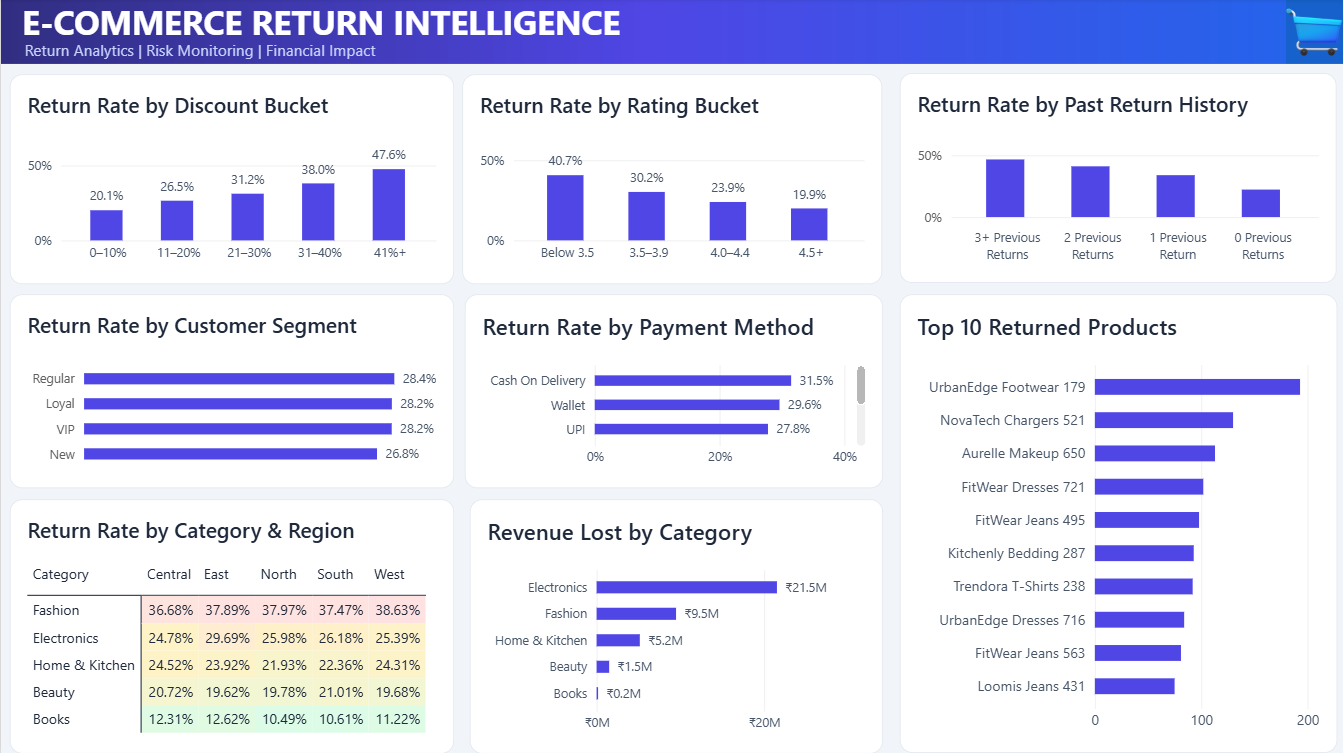

The page's visual inventory and layout, read from the dashboard file:
{"tool":"powerbi","page":{"name":"Detailed Analysis","canvas":[1280,720],"ordinal":1},"visuals":[{"type":"image","box":[0,1.4,1224.3,61.4],"z":0},{"type":"textbox","box":[0,1.4,1150,74.3],"z":1},{"type":"textbox","box":[22.5,38.8,1577.5,36.2],"z":2},{"type":"image","box":[1224.3,1.4,56,61.4],"z":3},{"type":"clusteredBarChart","title":"Top 10 Returned Products","fields":{"Category":["Products.Product_Name"],"Y":["Customers.Returned Orders"]},"box":[856.4,282.3,416.5,437.1],"z":6},{"type":"clusteredBarChart","title":"Revenue Lost by Category","fields":{"Category":["Products.Category"],"Y":["Returns.Total Refund Amount"]},"box":[446.7,476.8,393.2,242.5],"z":8},{"type":"clusteredBarChart","title":"Return Rate by Customer Segment","fields":{"Category":["Customers.Customer_Segment"],"Y":["Orders.Return Rate"]},"box":[8.2,282.3,423.4,185],"z":9},{"type":"clusteredBarChart","title":"Return Rate by Payment Method","fields":{"Category":["Orders.Payment_Method"],"Y":["Orders.Return Rate"]},"box":[441.2,282.3,398.7,185],"z":10},{"type":"clusteredColumnChart","title":"Return Rate by Discount Bucket","fields":{"Category":["Orders.Discount Bucket"],"Y":["Returns.Return Rate by Discount"]},"box":[8.2,72.6,423.4,200],"z":11},{"type":"clusteredColumnChart","title":"Return Rate by Rating Bucket","fields":{"Category":["Products.Rating Bucket"],"Y":["Returns.Return Rate by Rating"]},"box":[439.8,72.6,400,200],"z":12},{"type":"clusteredColumnChart","title":"Return Rate by Past Return History","fields":{"Category":["Customers.Return History Bucket"],"Y":["Returns.Return Rate by Past History"]},"box":[856,72,416,200],"z":13},{"type":"pivotTable","title":"Return Rate by Category & Region","fields":{"Columns":["Customers.Region"],"Rows":["Products.Category"],"Values":["Orders.Return Rate"]},"box":[8.2,476.8,423.4,242.5],"z":14}]}

Visuals, with their boxes in screenshot pixels (x1, y1, x2, y2), scaled from the page's 1280x720 canvas onto the 1343x753 screenshot:
image: left=0, top=1, right=1285, bottom=66
textbox: left=0, top=1, right=1207, bottom=79
textbox: left=24, top=41, right=1342, bottom=78
image: left=1285, top=1, right=1342, bottom=66
"Top 10 Returned Products" clusteredBarChart: left=899, top=295, right=1336, bottom=752
"Revenue Lost by Category" clusteredBarChart: left=469, top=499, right=881, bottom=752
"Return Rate by Customer Segment" clusteredBarChart: left=9, top=295, right=453, bottom=489
"Return Rate by Payment Method" clusteredBarChart: left=463, top=295, right=881, bottom=489
"Return Rate by Discount Bucket" clusteredColumnChart: left=9, top=76, right=453, bottom=285
"Return Rate by Rating Bucket" clusteredColumnChart: left=461, top=76, right=881, bottom=285
"Return Rate by Past Return History" clusteredColumnChart: left=898, top=75, right=1335, bottom=284
"Return Rate by Category & Region" pivotTable: left=9, top=499, right=453, bottom=752
